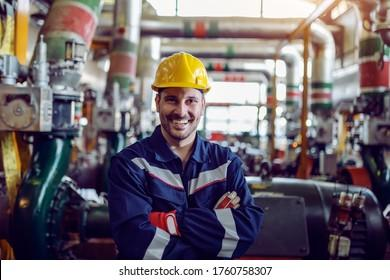gloves: (147, 208, 182, 235), (212, 190, 240, 210)
